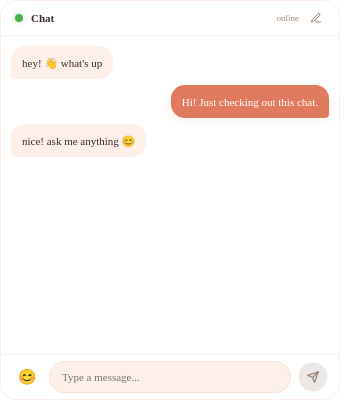
Test: ChatBubble › emoji button toggles picker
Click the button "😊": (27, 377) [11,361,43,393]
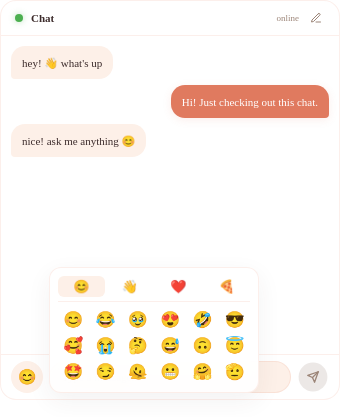
Now the button "👋" is shown, box [106,276,153,297]
